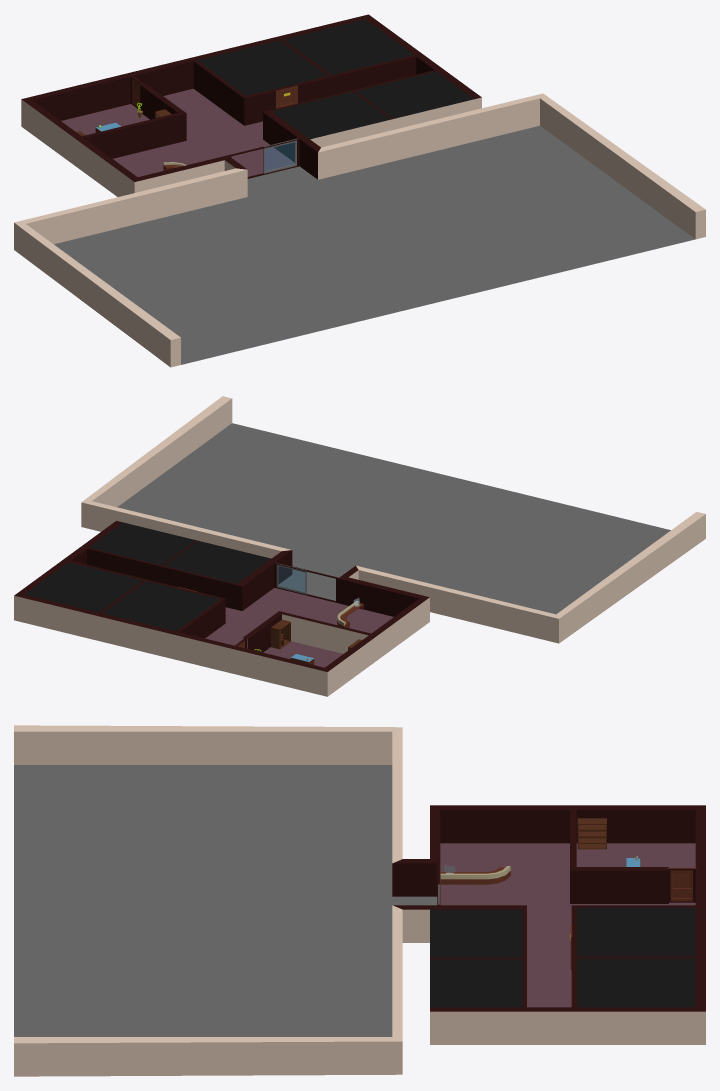
File: сцена 4 гостиница.fbx
3 views of the same model, one above another, from view 1: azimuth 30°, elevation 25°; view 2: azimuth 150°, elevation 25°; view 3: azimuth 270°, elevation 25° (orthographic). The views are drawn at different scales.
Parts seen in each view (by area): view 1: Пол, Стены.002, Дверь большая гостиница; view 2: Пол, Стены.002, Дверь большая гостиница, Шкаф.003; view 3: Пол, Стены.002, Шкаф.002, Стойка админа, Дверь гостиницы.
Part boxes in pixels (bbox=[...]): Пол: bbox=[54, 88, 695, 364]; Стены.002: bbox=[14, 14, 705, 367]; Дверь большая гостиница: bbox=[263, 138, 297, 173]; Пол: bbox=[117, 423, 670, 667]; Стены.002: bbox=[14, 396, 705, 696]; Дверь большая гостиница: bbox=[276, 563, 306, 594]; Шкаф.003: bbox=[271, 619, 290, 649]; Пол: bbox=[14, 765, 695, 1036]; Стены.002: bbox=[14, 725, 705, 1076]; Шкаф.002: bbox=[577, 818, 606, 849]; Стойка админа: bbox=[440, 866, 510, 884]; Дверь гостиницы: bbox=[666, 868, 696, 901].
Bounding box in the file's own units: 5120 × 4710 × 255.
